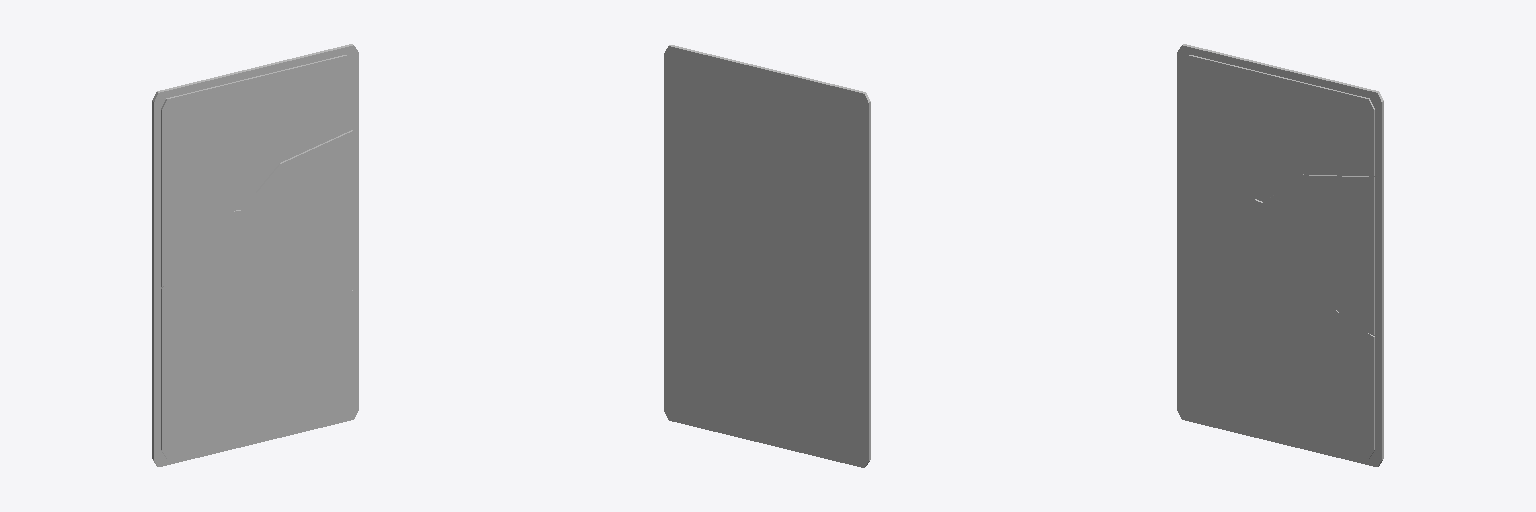
The model's file is mirror.obj.
3 views of the same model, side by side, from view 1: azimuth 30°, elevation 25°; view 2: azimuth 150°, elevation 25°; view 3: azimuth 330°, elevation 25° (orthographic).
Parts seen in each view (by area): view 1: Cube.001, Cube; view 2: Cube; view 3: Cube.001, Cube.
Boxes of the visible parts, x1,y1,x2,y2 form: Cube.001: [161, 55, 352, 458]; Cube: [152, 44, 358, 466]; Cube: [664, 45, 870, 467]; Cube.001: [1183, 55, 1374, 458]; Cube: [1177, 44, 1383, 466].
Size of the model in its own units: 2 by 3.5 by 0.0532.